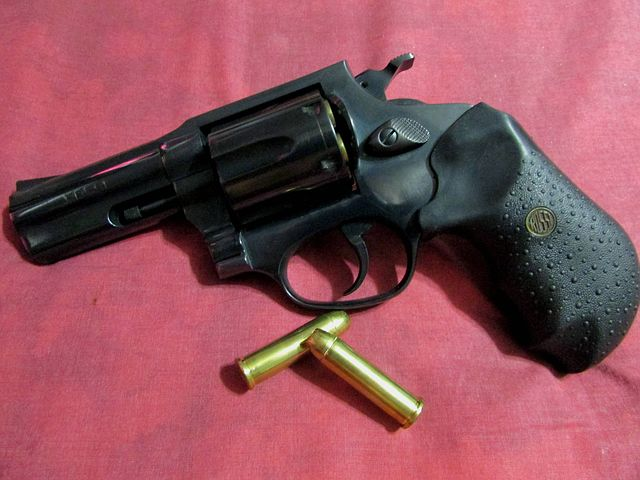gun: (10, 52, 640, 363)
